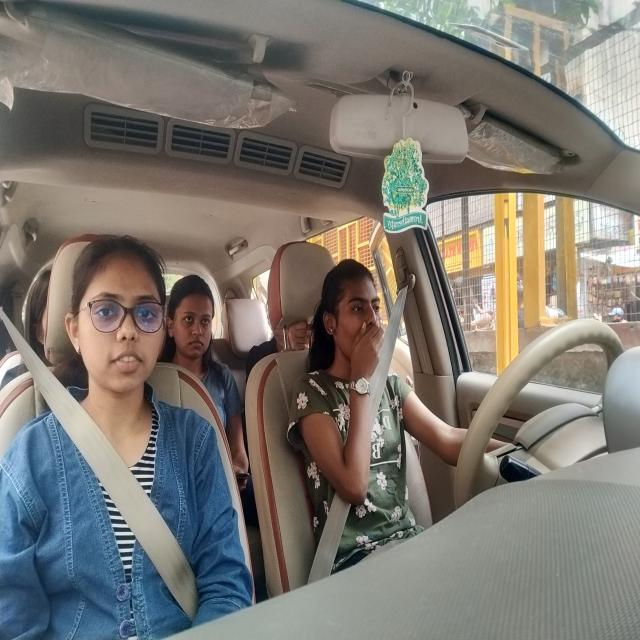drowsy: (319, 259, 386, 380)
person: (63, 232, 168, 404), (167, 276, 216, 360), (21, 265, 54, 380)
